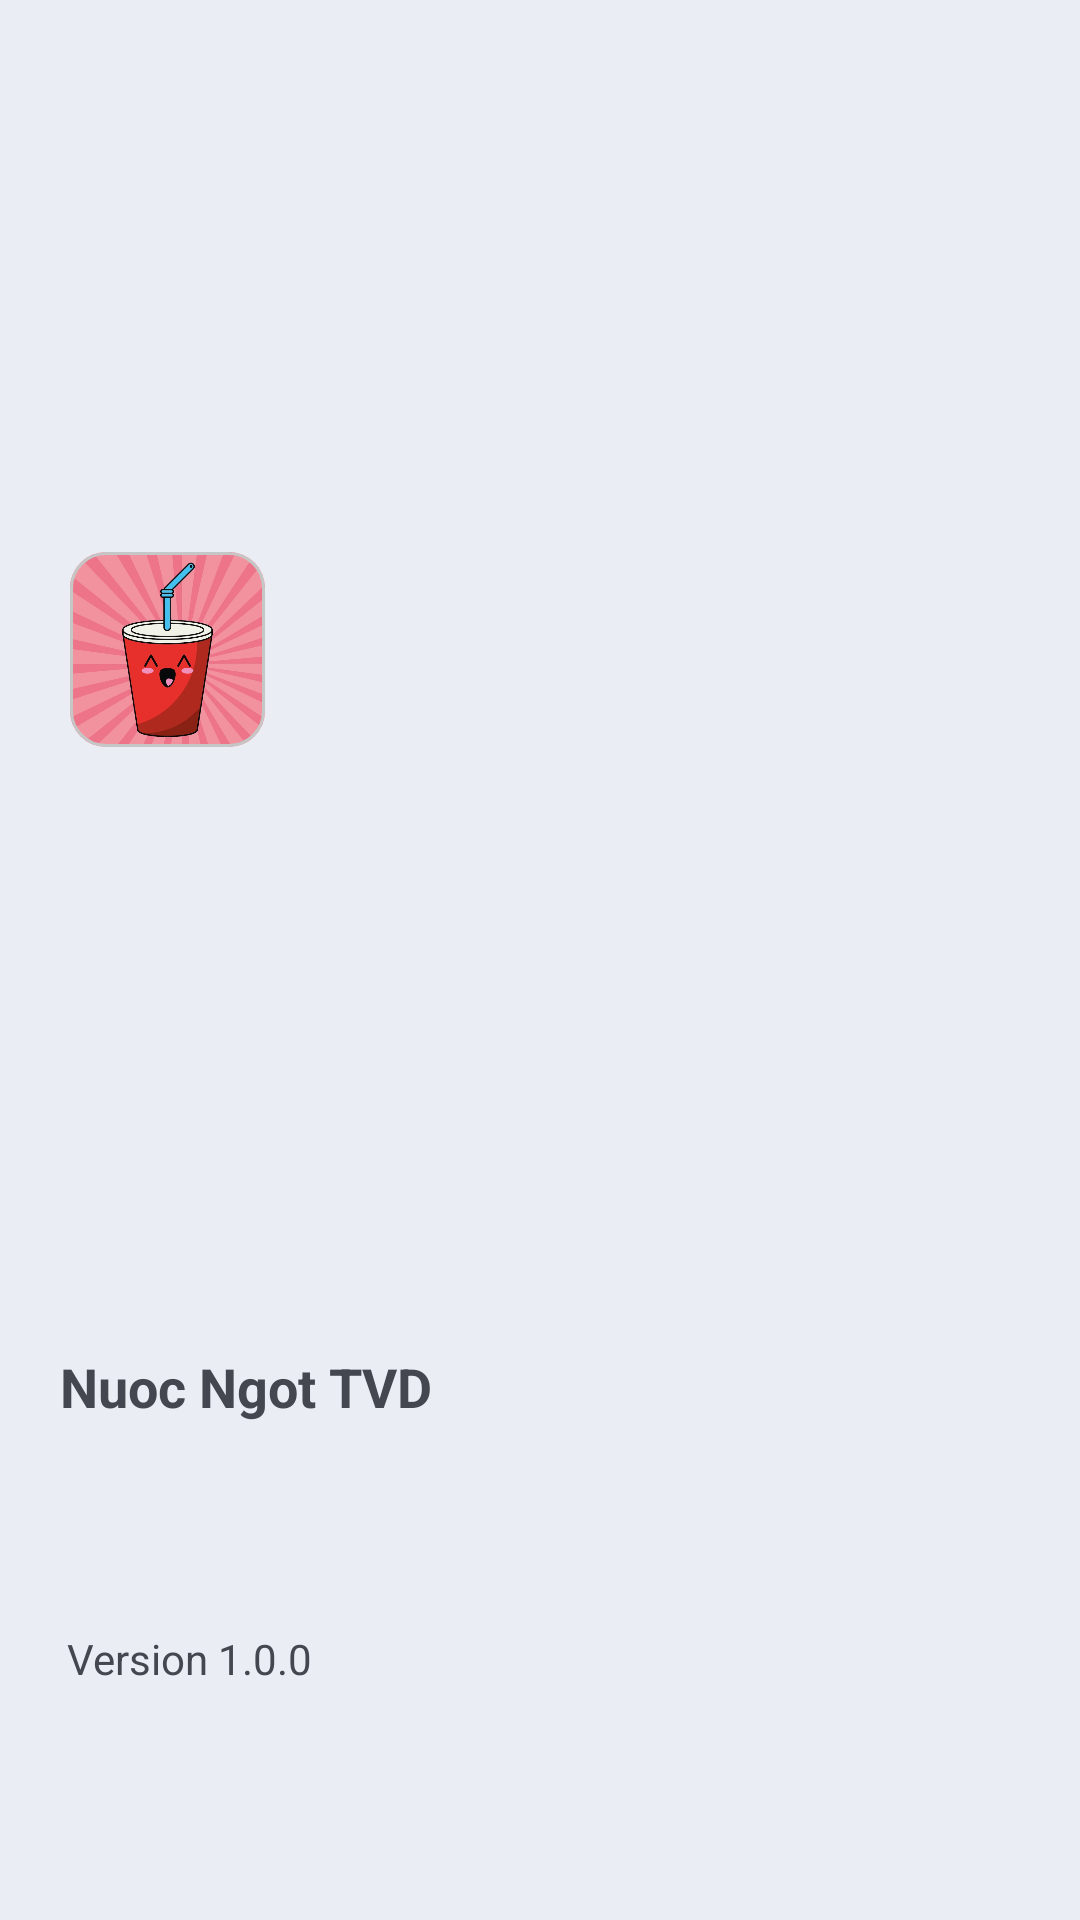

Named icons in this screenshot (1080px×1920px) and their centers, (x=x, y=y):
App Icon: (x=167, y=649)
